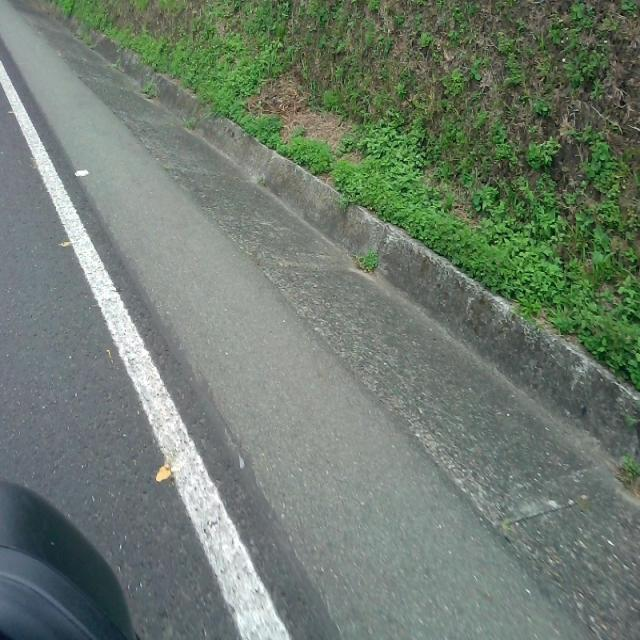DITCH: (1, 1, 638, 638), (1, 9, 638, 638)
